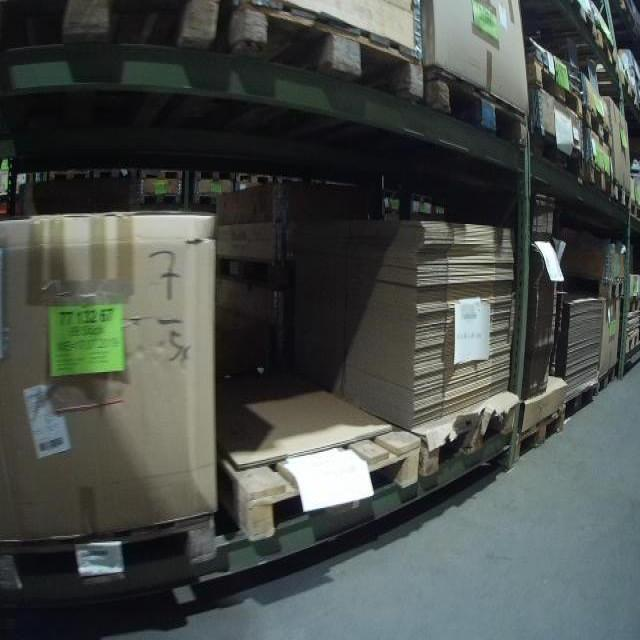pallet: (212, 388, 422, 547), (230, 6, 432, 108), (1, 513, 214, 603), (2, 3, 221, 53), (420, 383, 523, 478), (429, 66, 528, 153), (529, 60, 589, 121), (517, 403, 568, 471), (532, 126, 586, 182), (218, 257, 276, 289), (564, 375, 600, 424), (564, 275, 627, 300), (594, 18, 621, 73), (586, 104, 614, 150), (584, 165, 617, 200), (618, 60, 639, 111), (597, 360, 621, 399), (612, 179, 631, 213), (138, 168, 184, 182), (192, 168, 230, 184), (274, 174, 310, 189), (141, 196, 182, 209), (46, 169, 86, 182), (235, 171, 271, 185), (623, 297, 640, 320), (623, 328, 638, 354), (91, 170, 129, 179), (631, 198, 640, 222)
